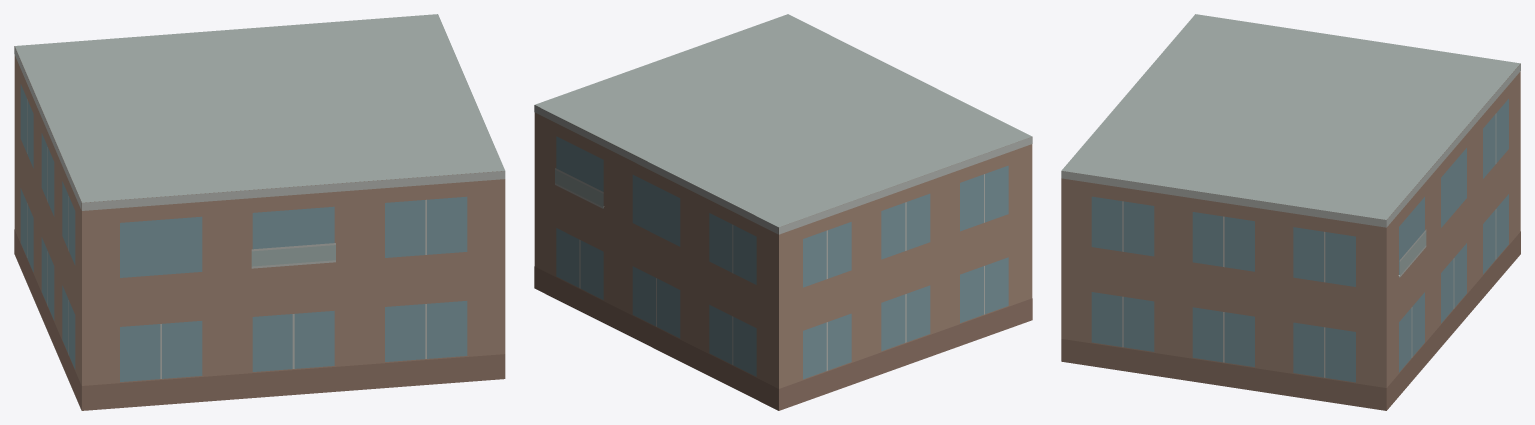
Rendered from survey-upis-32712691.glb.
3 renders of one model, left to right at view 1: azimuth 30°, elevation 25°; view 2: azimuth 150°, elevation 25°; view 3: azimuth 270°, elevation 25°, orthographic. The views are drawn at different scales.
Parts seen in each view (by area): view 1: survey-upis-32712691.tmp; view 2: survey-upis-32712691.tmp; view 3: survey-upis-32712691.tmp.
Part boxes in pixels (x1,y1,x2,y2): survey-upis-32712691.tmp: [14, 14, 505, 410]; survey-upis-32712691.tmp: [534, 14, 1032, 410]; survey-upis-32712691.tmp: [1061, 14, 1520, 410].
Size of the model in its own units: 14.13 by 6.1 by 13.32.
